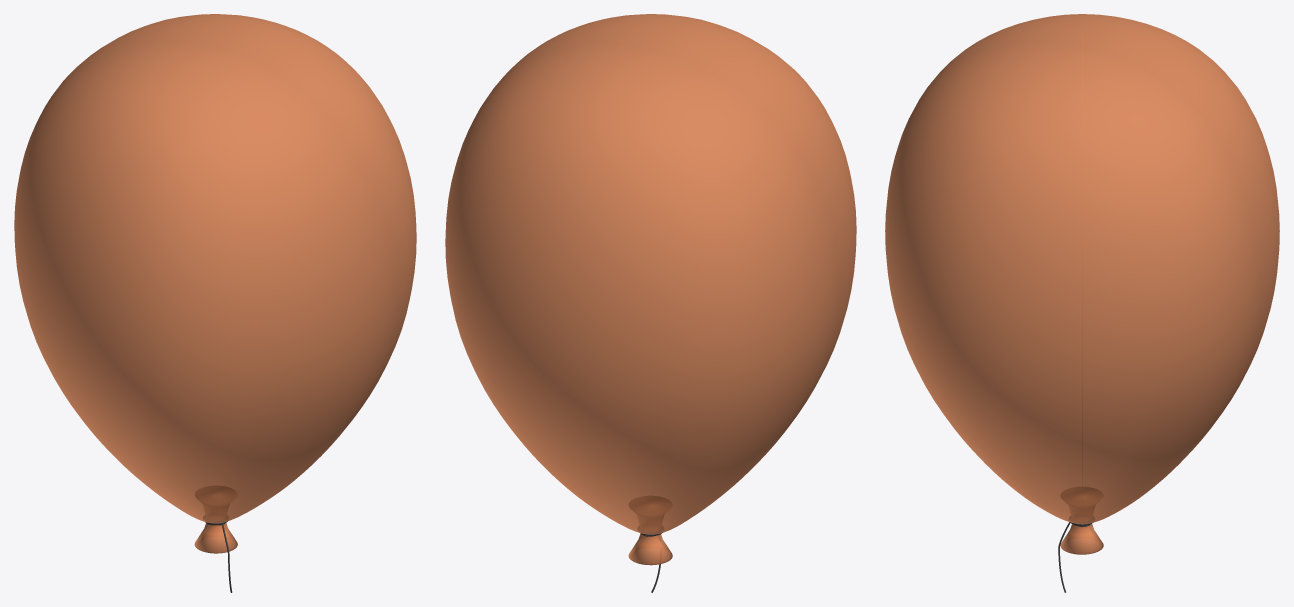
Rendered from ballon_orange.glb.
3 views of the same model, side by side, from view 1: azimuth 30°, elevation 25°; view 2: azimuth 150°, elevation 25°; view 3: azimuth 270°, elevation 25° (orthographic). The views are drawn at different scales.
Visible parts, largest first — view 1: Cube.003, Cylinder.006; view 2: Cube.003, Cylinder.006; view 3: Cube.003, Cylinder.006.
Part boxes in pixels (x1,y1,x2,y2): Cube.003: (14,14,416,523); Cylinder.006: (194,486,237,553); Cube.003: (445,14,856,534); Cylinder.006: (628,496,672,565); Cube.003: (885,14,1279,524); Cylinder.006: (1060,487,1103,554).
Bounding box in the file's own units: 0.9787 × 1.52 × 0.9787.
